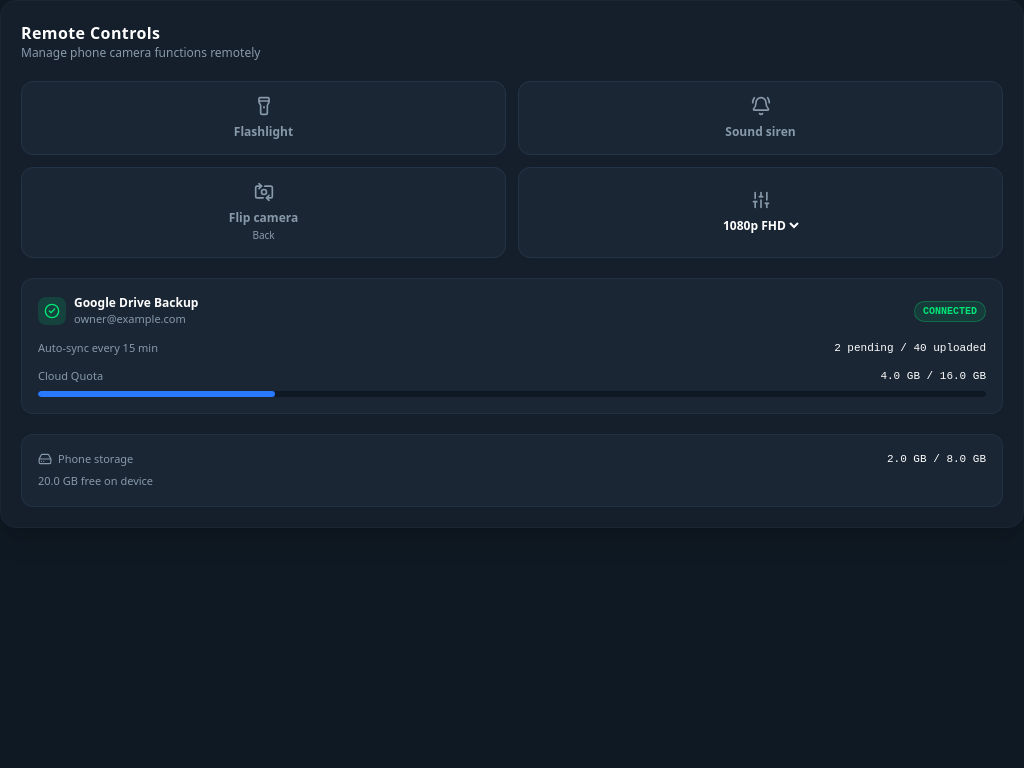
Test case: RemoteControls commands › reverts the optimistic state when the command fails
Click the button "Flashlight".
click(264, 118)  # box x1=21 y1=81 x2=506 y2=155
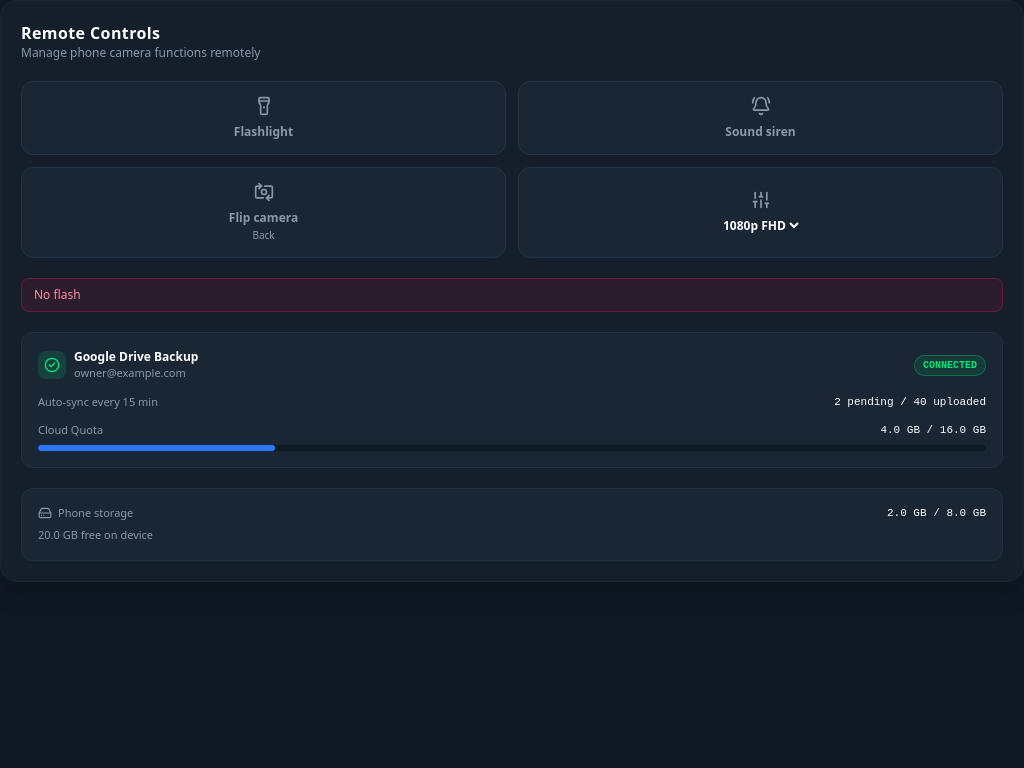
Result: the message "No flash" is shown at x1=21 y1=278 x2=1003 y2=312
